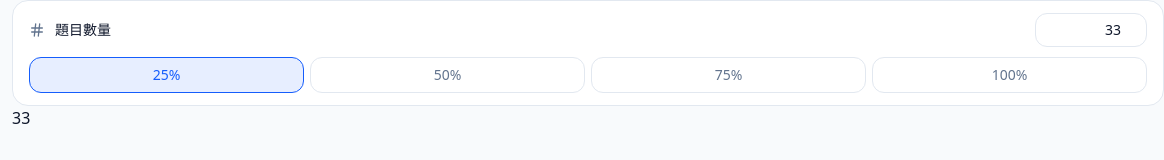
Scenario: SessionSizeField › quick buttons switch the percentage
The width and height of the screenshot is (1164, 160).
Click the button "50%" at [448, 75], box [310,57,585,93]
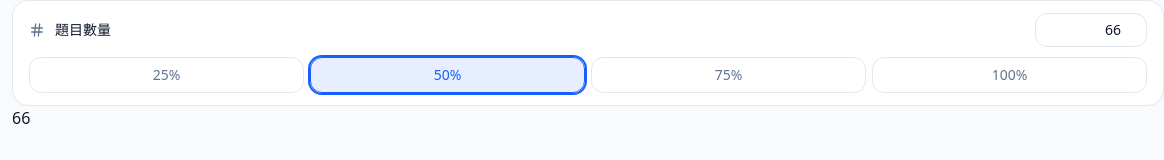
Expected: the number field labelled "題目數量" holds "66", [1035,13,1147,47]
Click the button "100%" at [1010, 75], box [872,57,1147,93]
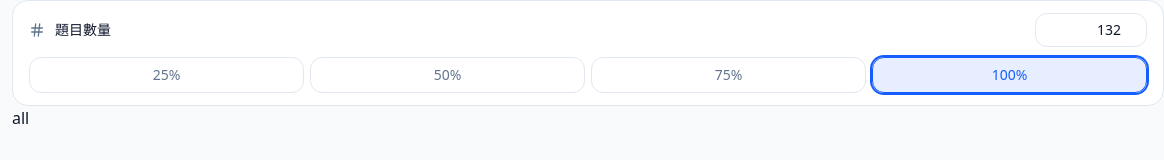
Expected: the number field labelled "題目數量" holds "132", [1035,13,1147,47]
Expected: the text named "resolved" reads "all", [12,107,29,129]
